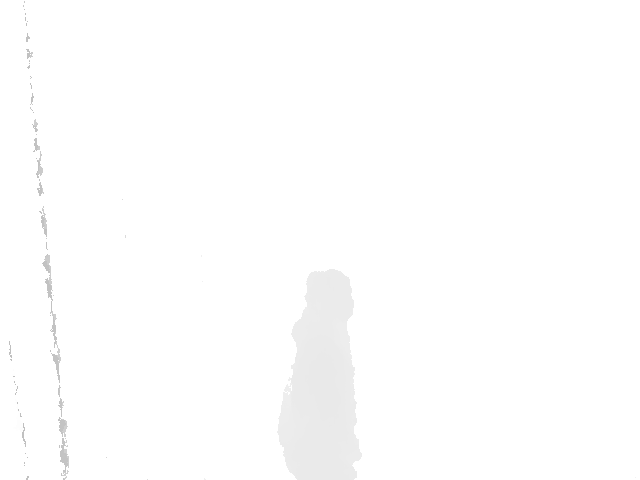head: (303, 270, 355, 332)
person: (278, 269, 364, 480)
